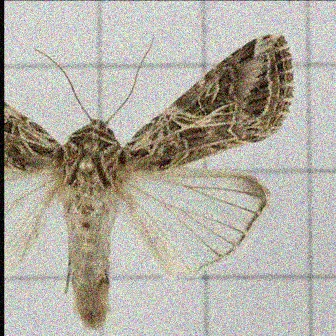Spodoptera litura: (5, 34, 296, 330)
